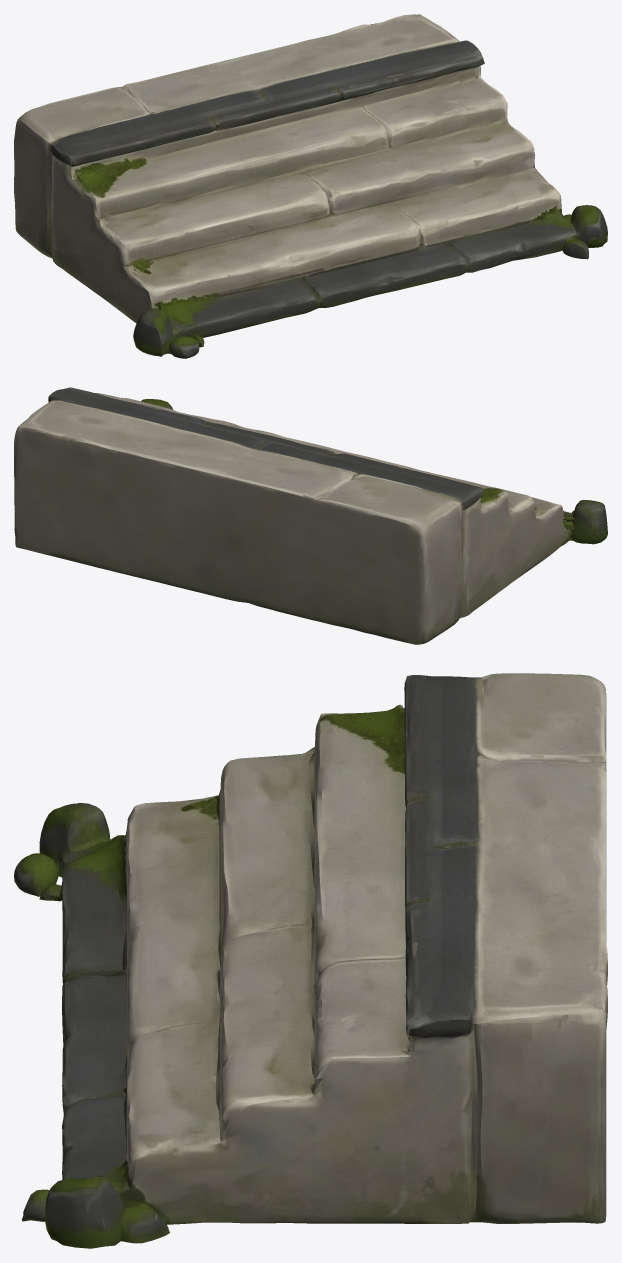
File: tidewake_veilfall_terrace_steps.glb
The picture shows the model from 3 angles, top to bottom: view 1: azimuth 30°, elevation 25°; view 2: azimuth 150°, elevation 25°; view 3: azimuth 270°, elevation 25°; orthographic projection. The views are drawn at different scales.
Parts seen in each view (by area): view 1: Mesh_0; view 2: Mesh_0; view 3: Mesh_0.
Boxes of the visible parts, <box> form: Mesh_0: <box>14,14,607,358</box>; Mesh_0: <box>14,387,607,644</box>; Mesh_0: <box>14,673,607,1248</box>.
Size of the model in its own units: 6 by 1.52 by 3.8.
Materials: 1 (1 with a texture image).
